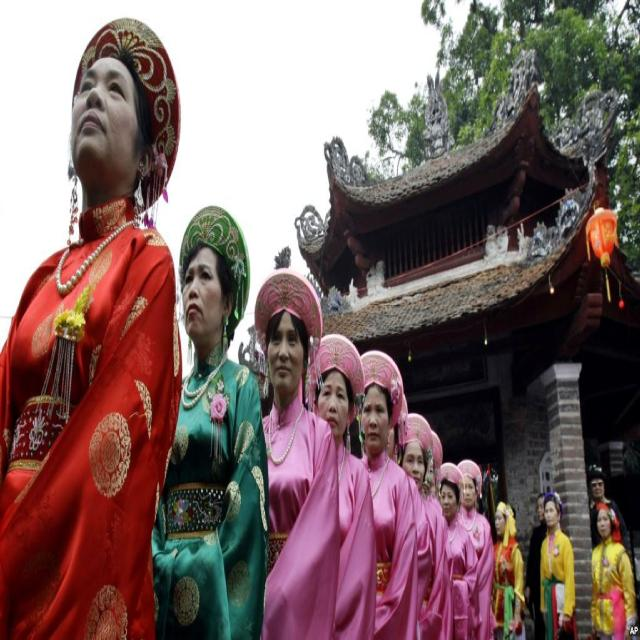body: (0, 15, 183, 638), (129, 201, 271, 639), (247, 266, 342, 640), (305, 329, 378, 639), (355, 349, 418, 640), (356, 374, 419, 640), (398, 412, 452, 640), (437, 461, 479, 640), (455, 457, 495, 640), (588, 501, 638, 639), (486, 499, 526, 639), (540, 491, 576, 640), (586, 468, 629, 553), (524, 491, 548, 640), (421, 428, 447, 503), (384, 395, 408, 470)
